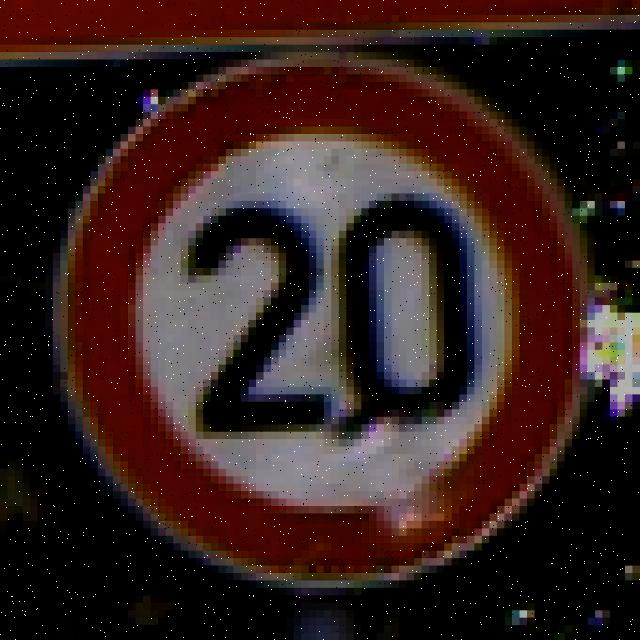Ograniczenie predkosci do 20: (54, 53, 591, 594)
